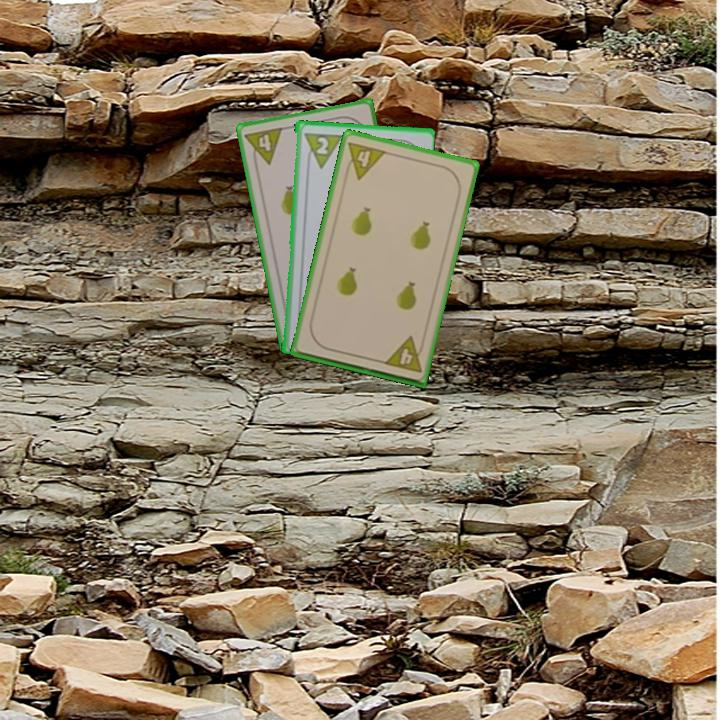2p: (300, 129, 343, 170)
4p: (341, 138, 389, 182), (241, 124, 285, 170), (380, 333, 427, 376)
